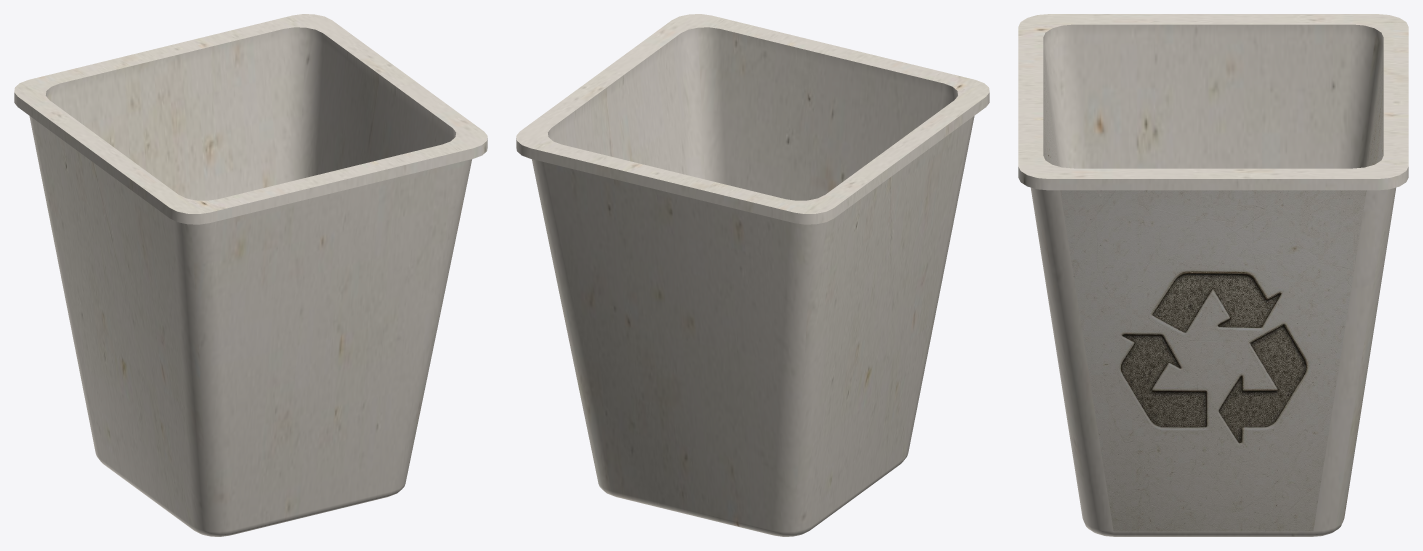
Rendered from trashcan.fbx.
The picture shows the model from 3 angles, left to right: view 1: azimuth 30°, elevation 25°; view 2: azimuth 150°, elevation 25°; view 3: azimuth 270°, elevation 25°; orthographic projection. The views are drawn at different scales.
Parts seen in each view (by area): view 1: trashcan; view 2: trashcan; view 3: trashcan.
Boxes of the visible parts, left/top/right/bottom form: trashcan: left=14, top=14, right=487, bottom=536; trashcan: left=516, top=14, right=989, bottom=536; trashcan: left=1018, top=14, right=1408, bottom=536.
Size of the model in its own units: 42.21 by 46.35 by 42.21.
2 materials, 2 textured.
